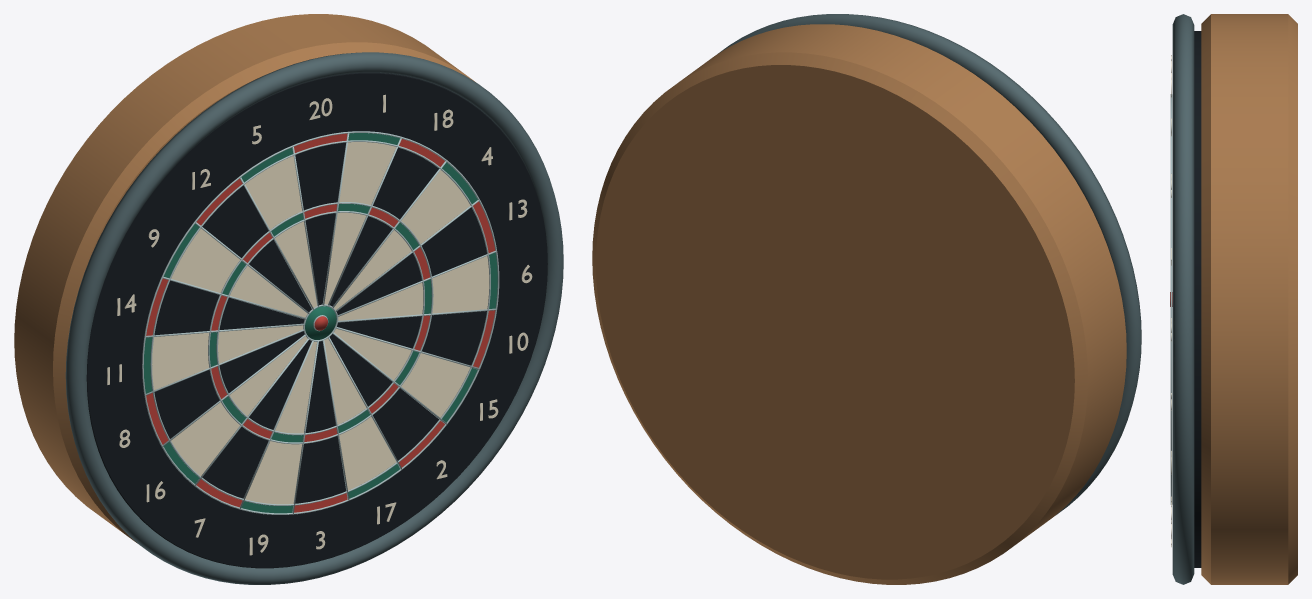
File: club-dartboard.glb
The picture shows the model from 3 angles, left to right: view 1: azimuth 30°, elevation 25°; view 2: azimuth 150°, elevation 25°; view 3: azimuth 270°, elevation 25°; orthographic projection.
Parts seen in each view (by area): view 1: Sisal board body, Oak cabinet back, Cabinet surround, Spider ring.005, Spider ring.004, Spider ring.003, Spider ring.002; view 2: Oak cabinet back, Cabinet surround; view 3: Oak cabinet back, Cabinet surround, Sisal board body, Spider ring.005.
Part boxes in pixels (x1=…): Sisal board body: x1=86, y1=72, x2=547, y2=568; Oak cabinet back: x1=14, y1=14, x2=474, y2=543; Cabinet surround: x1=65, y1=52, x2=563, y2=584; Spider ring.005: x1=142, y1=131, x2=499, y2=514; Spider ring.004: x1=150, y1=140, x2=490, y2=505; Spider ring.003: x1=208, y1=202, x2=433, y2=444; Spider ring.002: x1=216, y1=211, x2=424, y2=435; Oak cabinet back: x1=592, y1=24, x2=1126, y2=584; Cabinet surround: x1=718, y1=14, x2=1141, y2=515; Oak cabinet back: x1=1201, y1=14, x2=1297, y2=584; Cabinet surround: x1=1172, y1=14, x2=1194, y2=584; Sisal board body: x1=1194, y1=31, x2=1201, y2=567; Spider ring.005: x1=1170, y1=94, x2=1172, y2=504.
Bounding box in the file's own units: 0.474 × 0.474 × 0.106.
